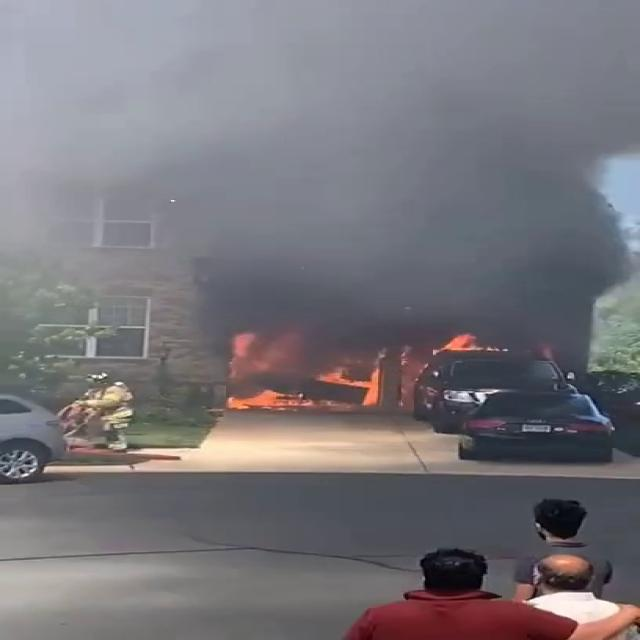Fire: (209, 330, 389, 417)
Smoke: (2, 0, 637, 343)
